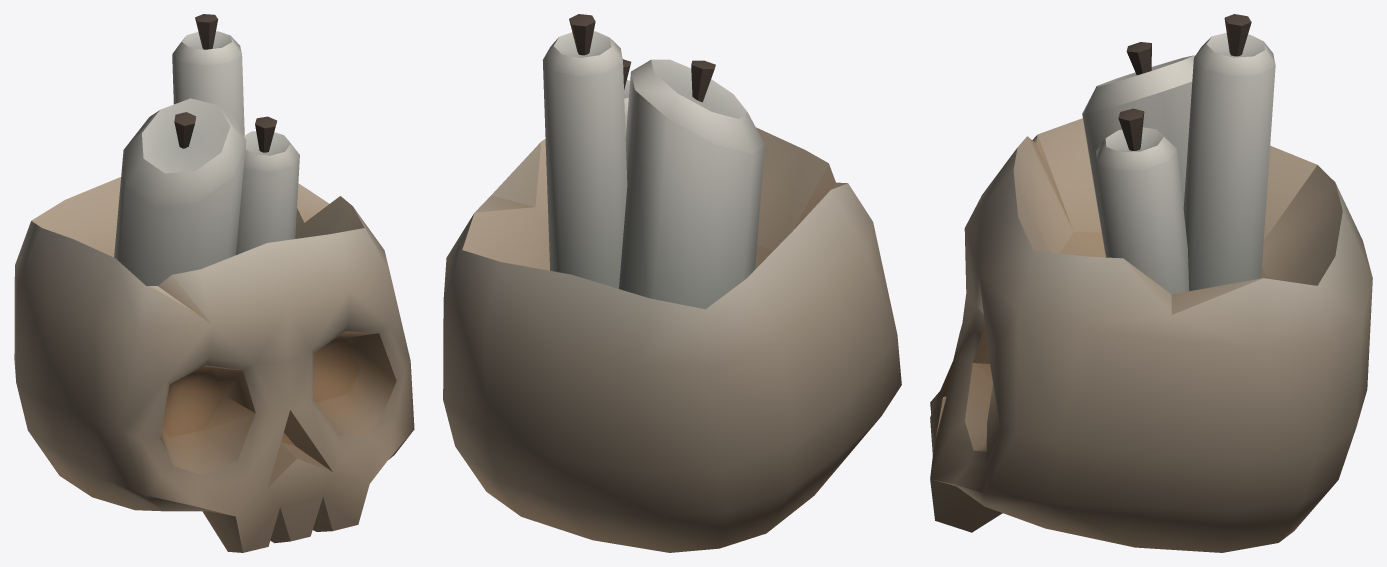
File: skull-candle.glb
The picture shows the model from 3 angles, left to right: view 1: azimuth 30°, elevation 25°; view 2: azimuth 150°, elevation 25°; view 3: azimuth 270°, elevation 25°; orthographic projection. The views are drawn at different scales.
Visible parts, largest first — view 1: skull-candle; view 2: skull-candle; view 3: skull-candle.
Part boxes in pixels (<box>): skull-candle: <box>14,14,414,552</box>; skull-candle: <box>443,14,901,552</box>; skull-candle: <box>930,14,1372,552</box>.
Bounding box in the file's own units: 0.2318 × 0.3 × 0.2365.
